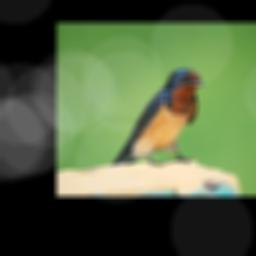Swallow: (109, 67, 205, 168)
